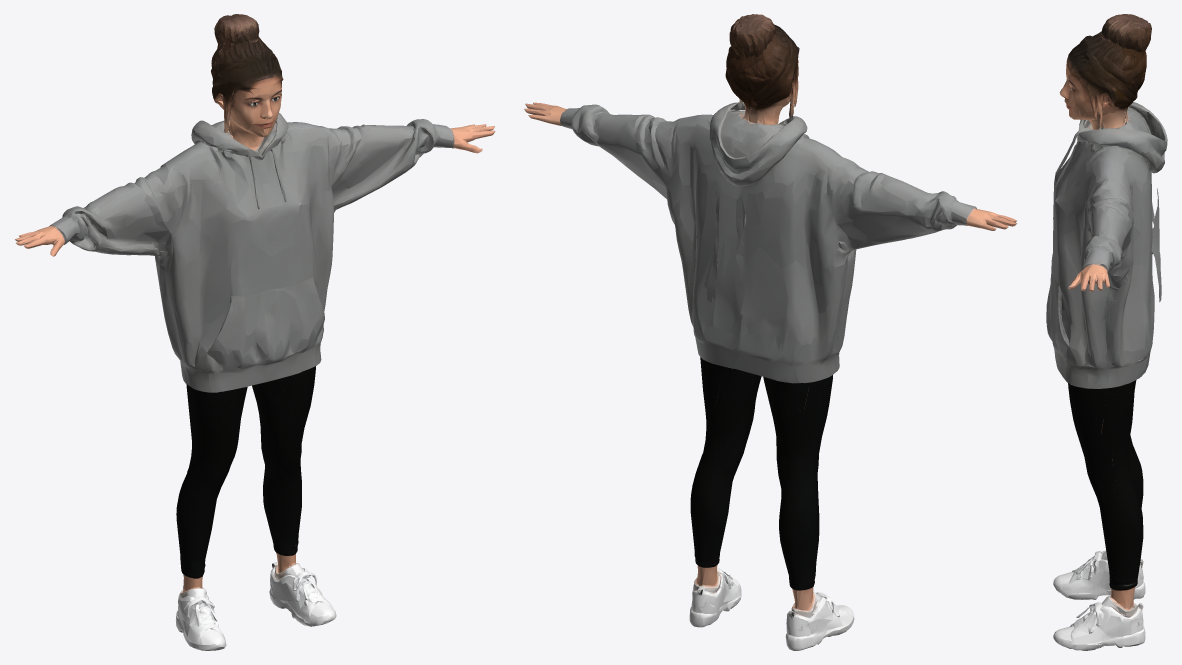
Rendered from ped_student.glb.
The picture shows the model from 3 angles, left to right: view 1: azimuth 30°, elevation 25°; view 2: azimuth 150°, elevation 25°; view 3: azimuth 270°, elevation 25°; orthographic projection. The views are drawn at different scales.
Parts seen in each view (by area): view 1: Mesh_0; view 2: Mesh_0; view 3: Mesh_0.
Boxes of the visible parts, <box> form: Mesh_0: <box>15,14,495,650</box>; Mesh_0: <box>524,14,1017,650</box>; Mesh_0: <box>1046,14,1167,650</box>.
Bounding box in the file's own units: 1.59 × 1.9 × 0.3459.
1 material, 1 textured.
